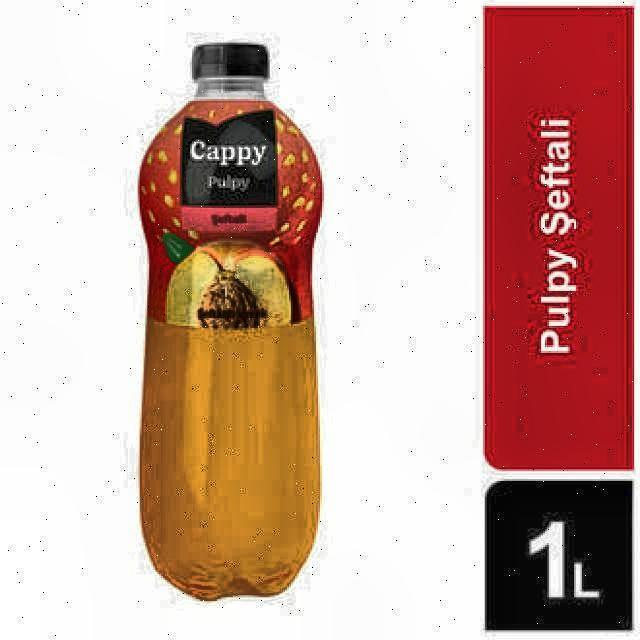plastic: (137, 42, 324, 605)
